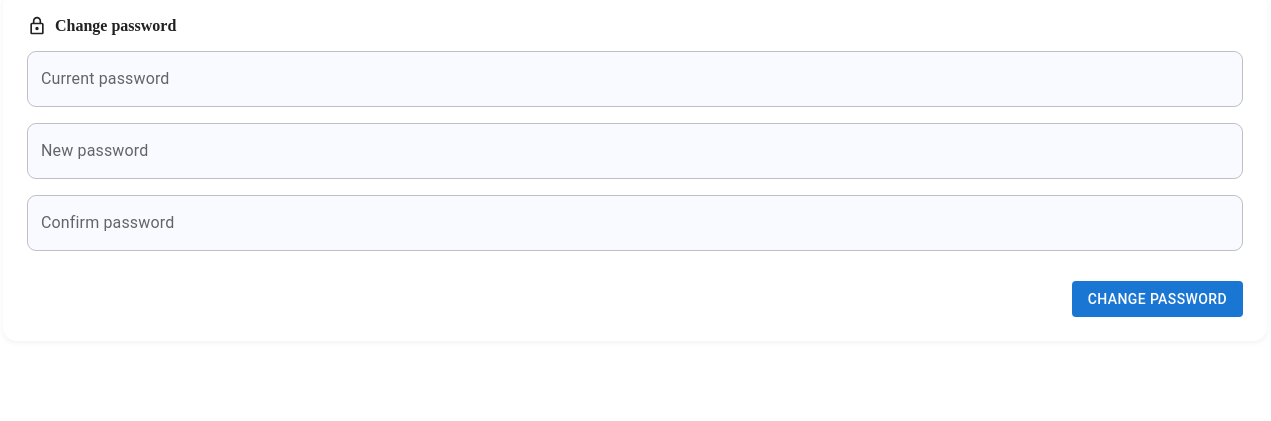
Scenario: ChangePasswordForm › should show success and clear the fields after changing the password
Type "old-password" into the password field labelled "Current password" at [635, 79], box x1=27 y1=51 x2=1243 y2=107
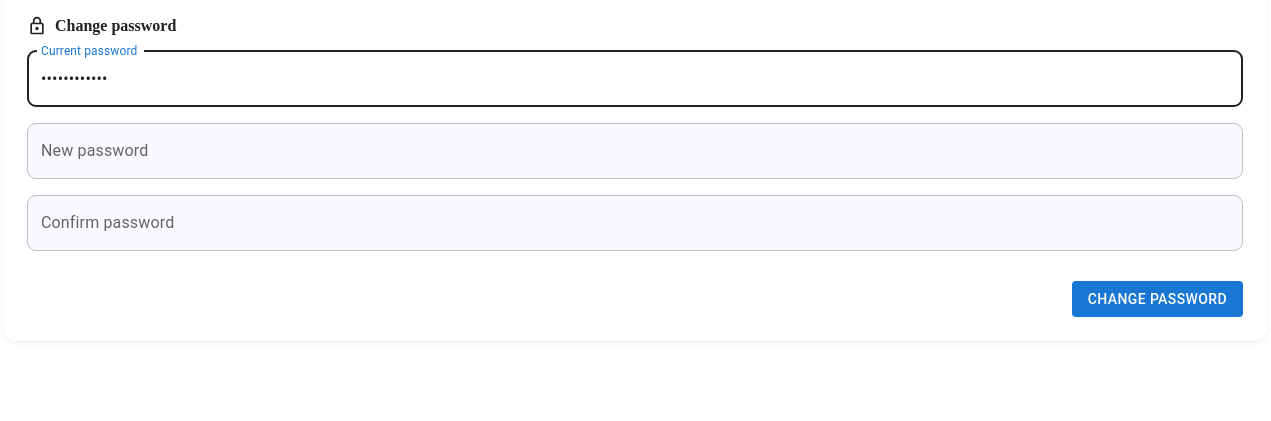
Type "new-password-123" into the password field labelled "New password" at [635, 151], box x1=27 y1=123 x2=1243 y2=179
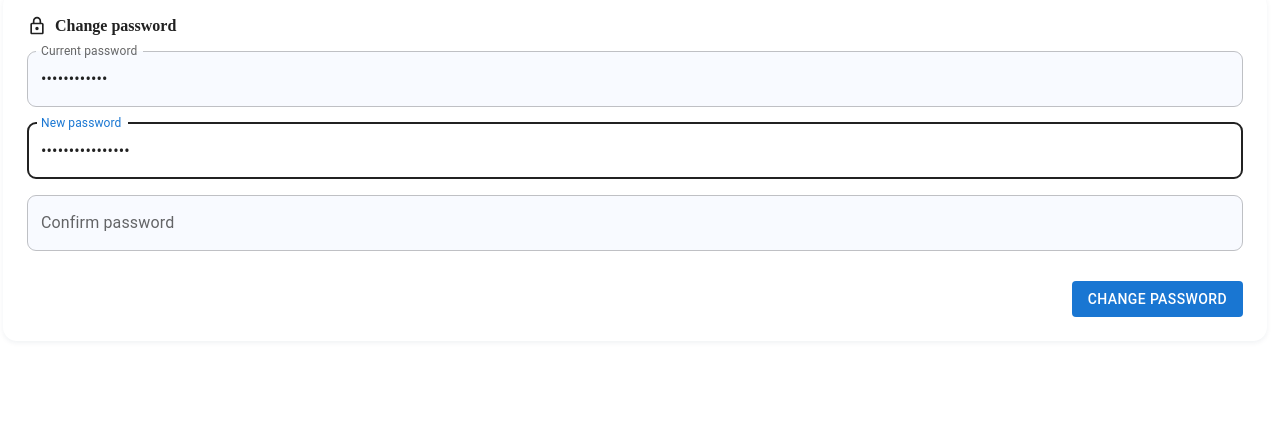
Type "new-password-123" into the password field labelled "Confirm password" at [635, 223], box x1=27 y1=195 x2=1243 y2=251
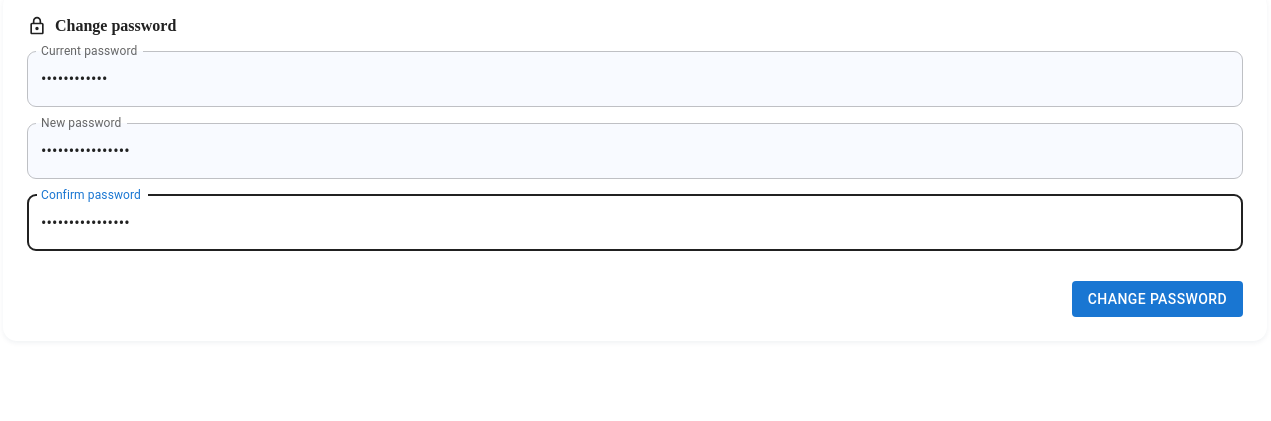
Click the button "Change password" at [1157, 299], box x1=1072 y1=281 x2=1243 y2=317
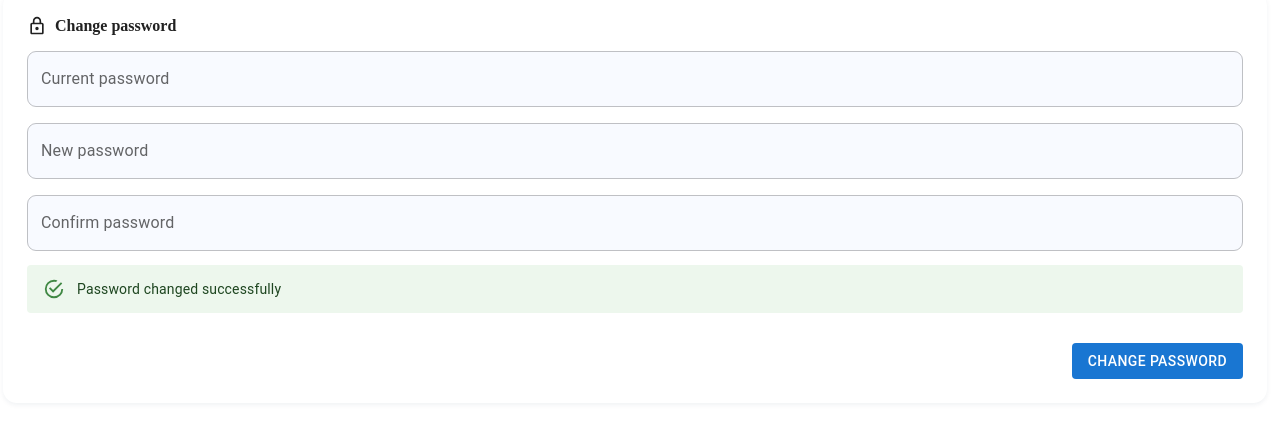
Now the message reads "Password changed successfully", box x1=77 y1=281 x2=281 y2=297
Now the password field labelled "Current password" is empty, box x1=27 y1=51 x2=1243 y2=107
Now the password field labelled "New password" is empty, box x1=27 y1=123 x2=1243 y2=179
